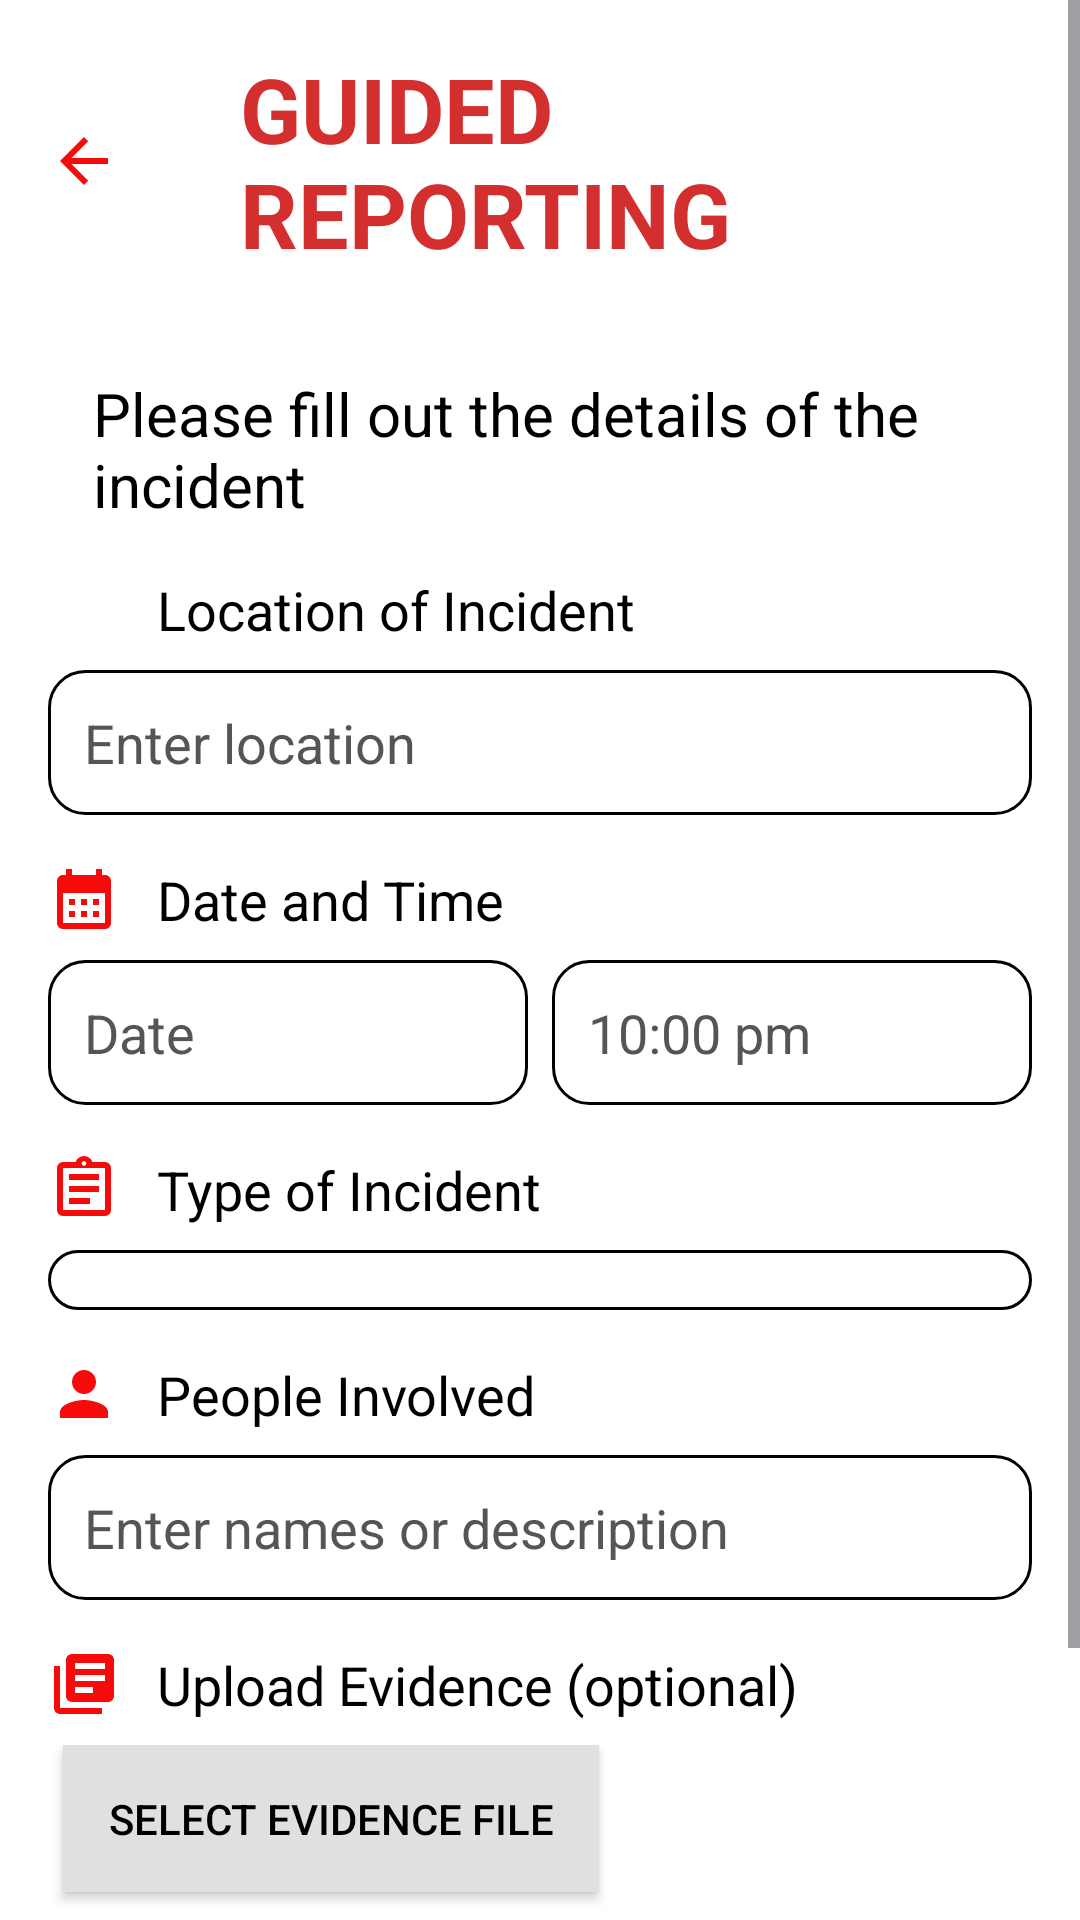

Icon bounding boxes for this 1080*1920 phone screenshot, format (x1, y1, x2, y2):
Back: (60, 137, 108, 185)
Calendar: (57, 869, 111, 929)
